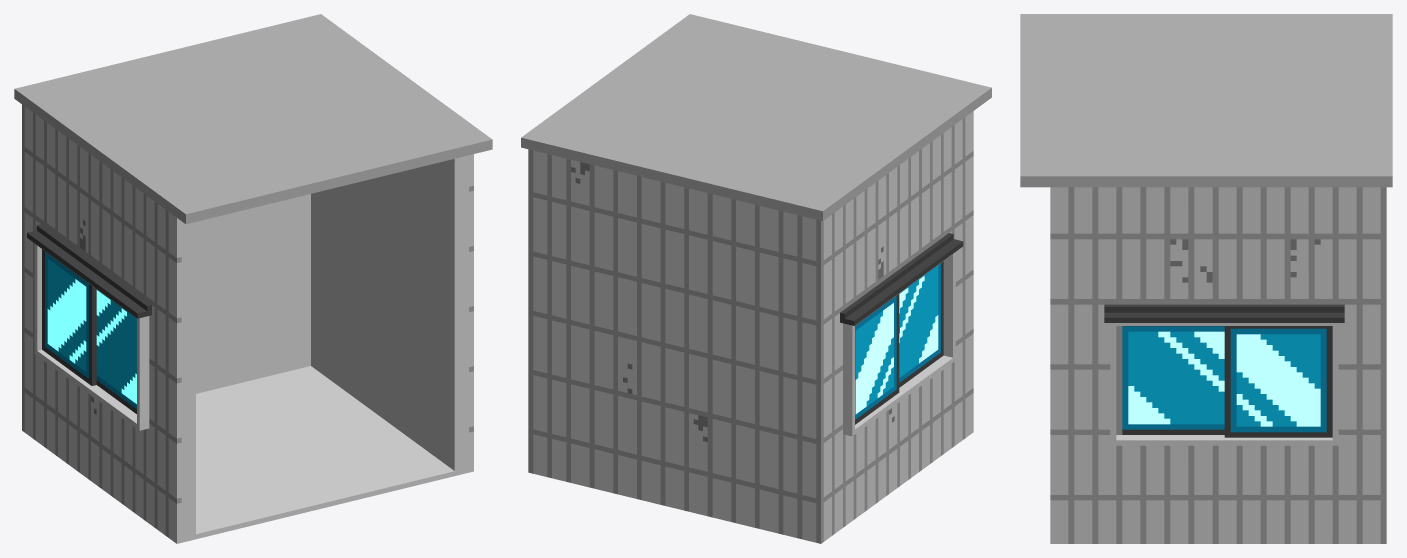
Rendered from typeFour.glb.
The picture shows the model from 3 angles, left to right: view 1: azimuth 30°, elevation 25°; view 2: azimuth 150°, elevation 25°; view 3: azimuth 270°, elevation 25°; orthographic projection. The views are drawn at different scales.
Parts seen in each view (by area): view 1: ObjObject; view 2: ObjObject; view 3: ObjObject.
Boxes of the visible parts, box(x1,y1,x2,y2) form: ObjObject: box(14, 14, 492, 543); ObjObject: box(521, 14, 991, 543); ObjObject: box(1020, 14, 1392, 543).
Size of the model in its own units: 6.8 by 6.8 by 6.2.
Materials: 3 (1 with a texture image).
